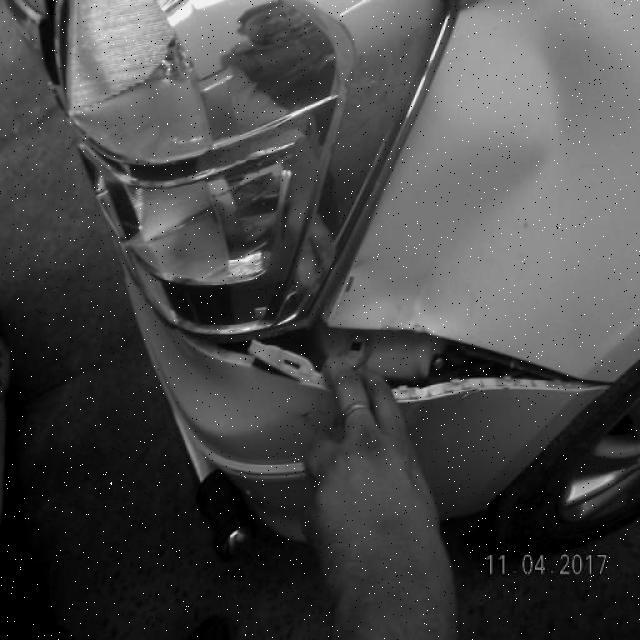car damage: (65, 2, 459, 339), (363, 6, 638, 333), (194, 319, 616, 401)
